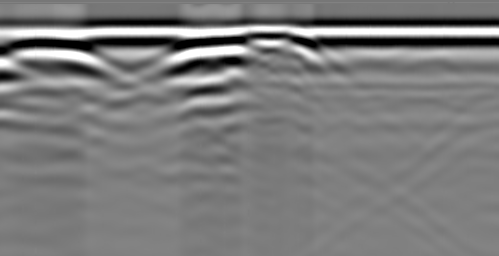pipe: (234, 29, 317, 51)
